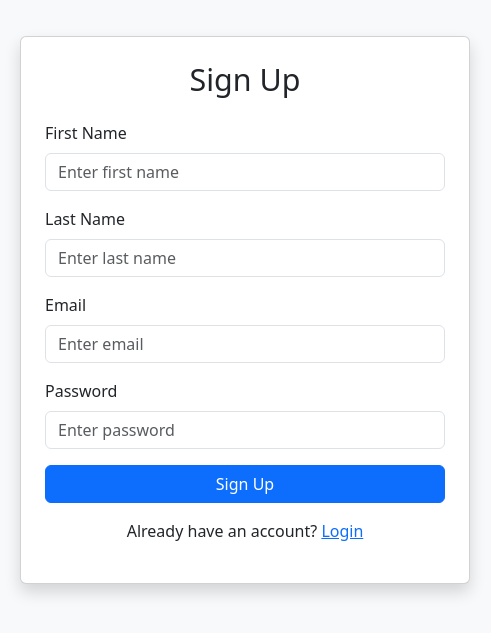
Scenario: Signup › falls back to a generic error when the server sends no message
Type "Ada" into the field with placeholder "Enter first name".
click(245, 172); type("Ada")  # box x1=45 y1=153 x2=445 y2=191
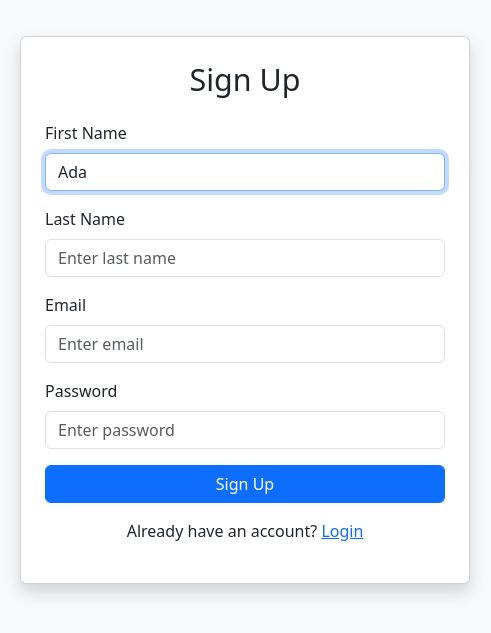
Type "Lovelace" into the field with placeholder "Enter last name".
click(245, 258); type("Lovelace")  # box x1=45 y1=239 x2=445 y2=277
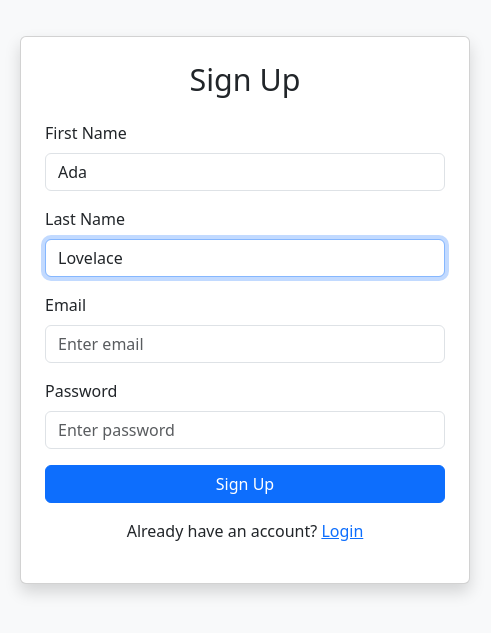
Type "ada@example.com" into the field with placeholder "Enter email".
click(245, 344); type("ada@example.com")  # box x1=45 y1=325 x2=445 y2=363
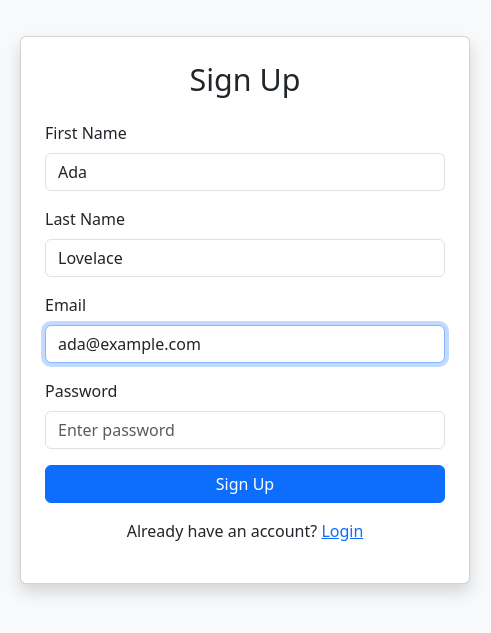
Type "secret123" into the password field with placeholder "Enter password".
click(245, 430); type("secret123")  # box x1=45 y1=411 x2=445 y2=449
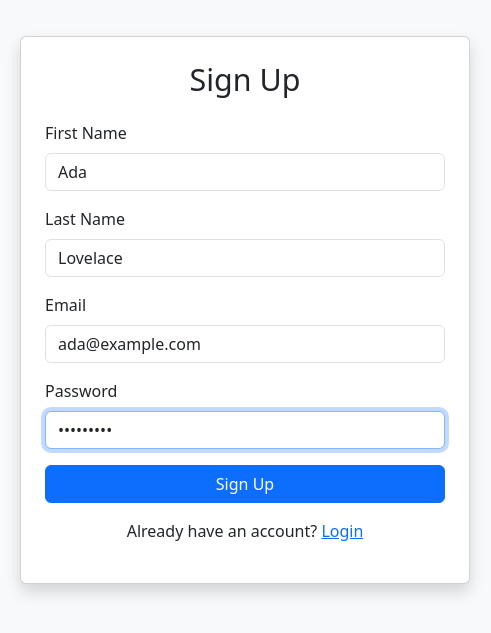
Click the button "Sign Up".
click(245, 484)  # box x1=45 y1=465 x2=445 y2=503
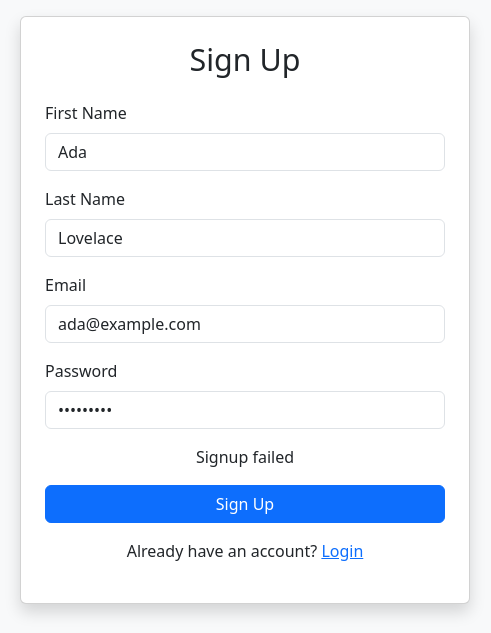
Check: the text "Signup failed" is shown, box x1=196 y1=446 x2=294 y2=468
